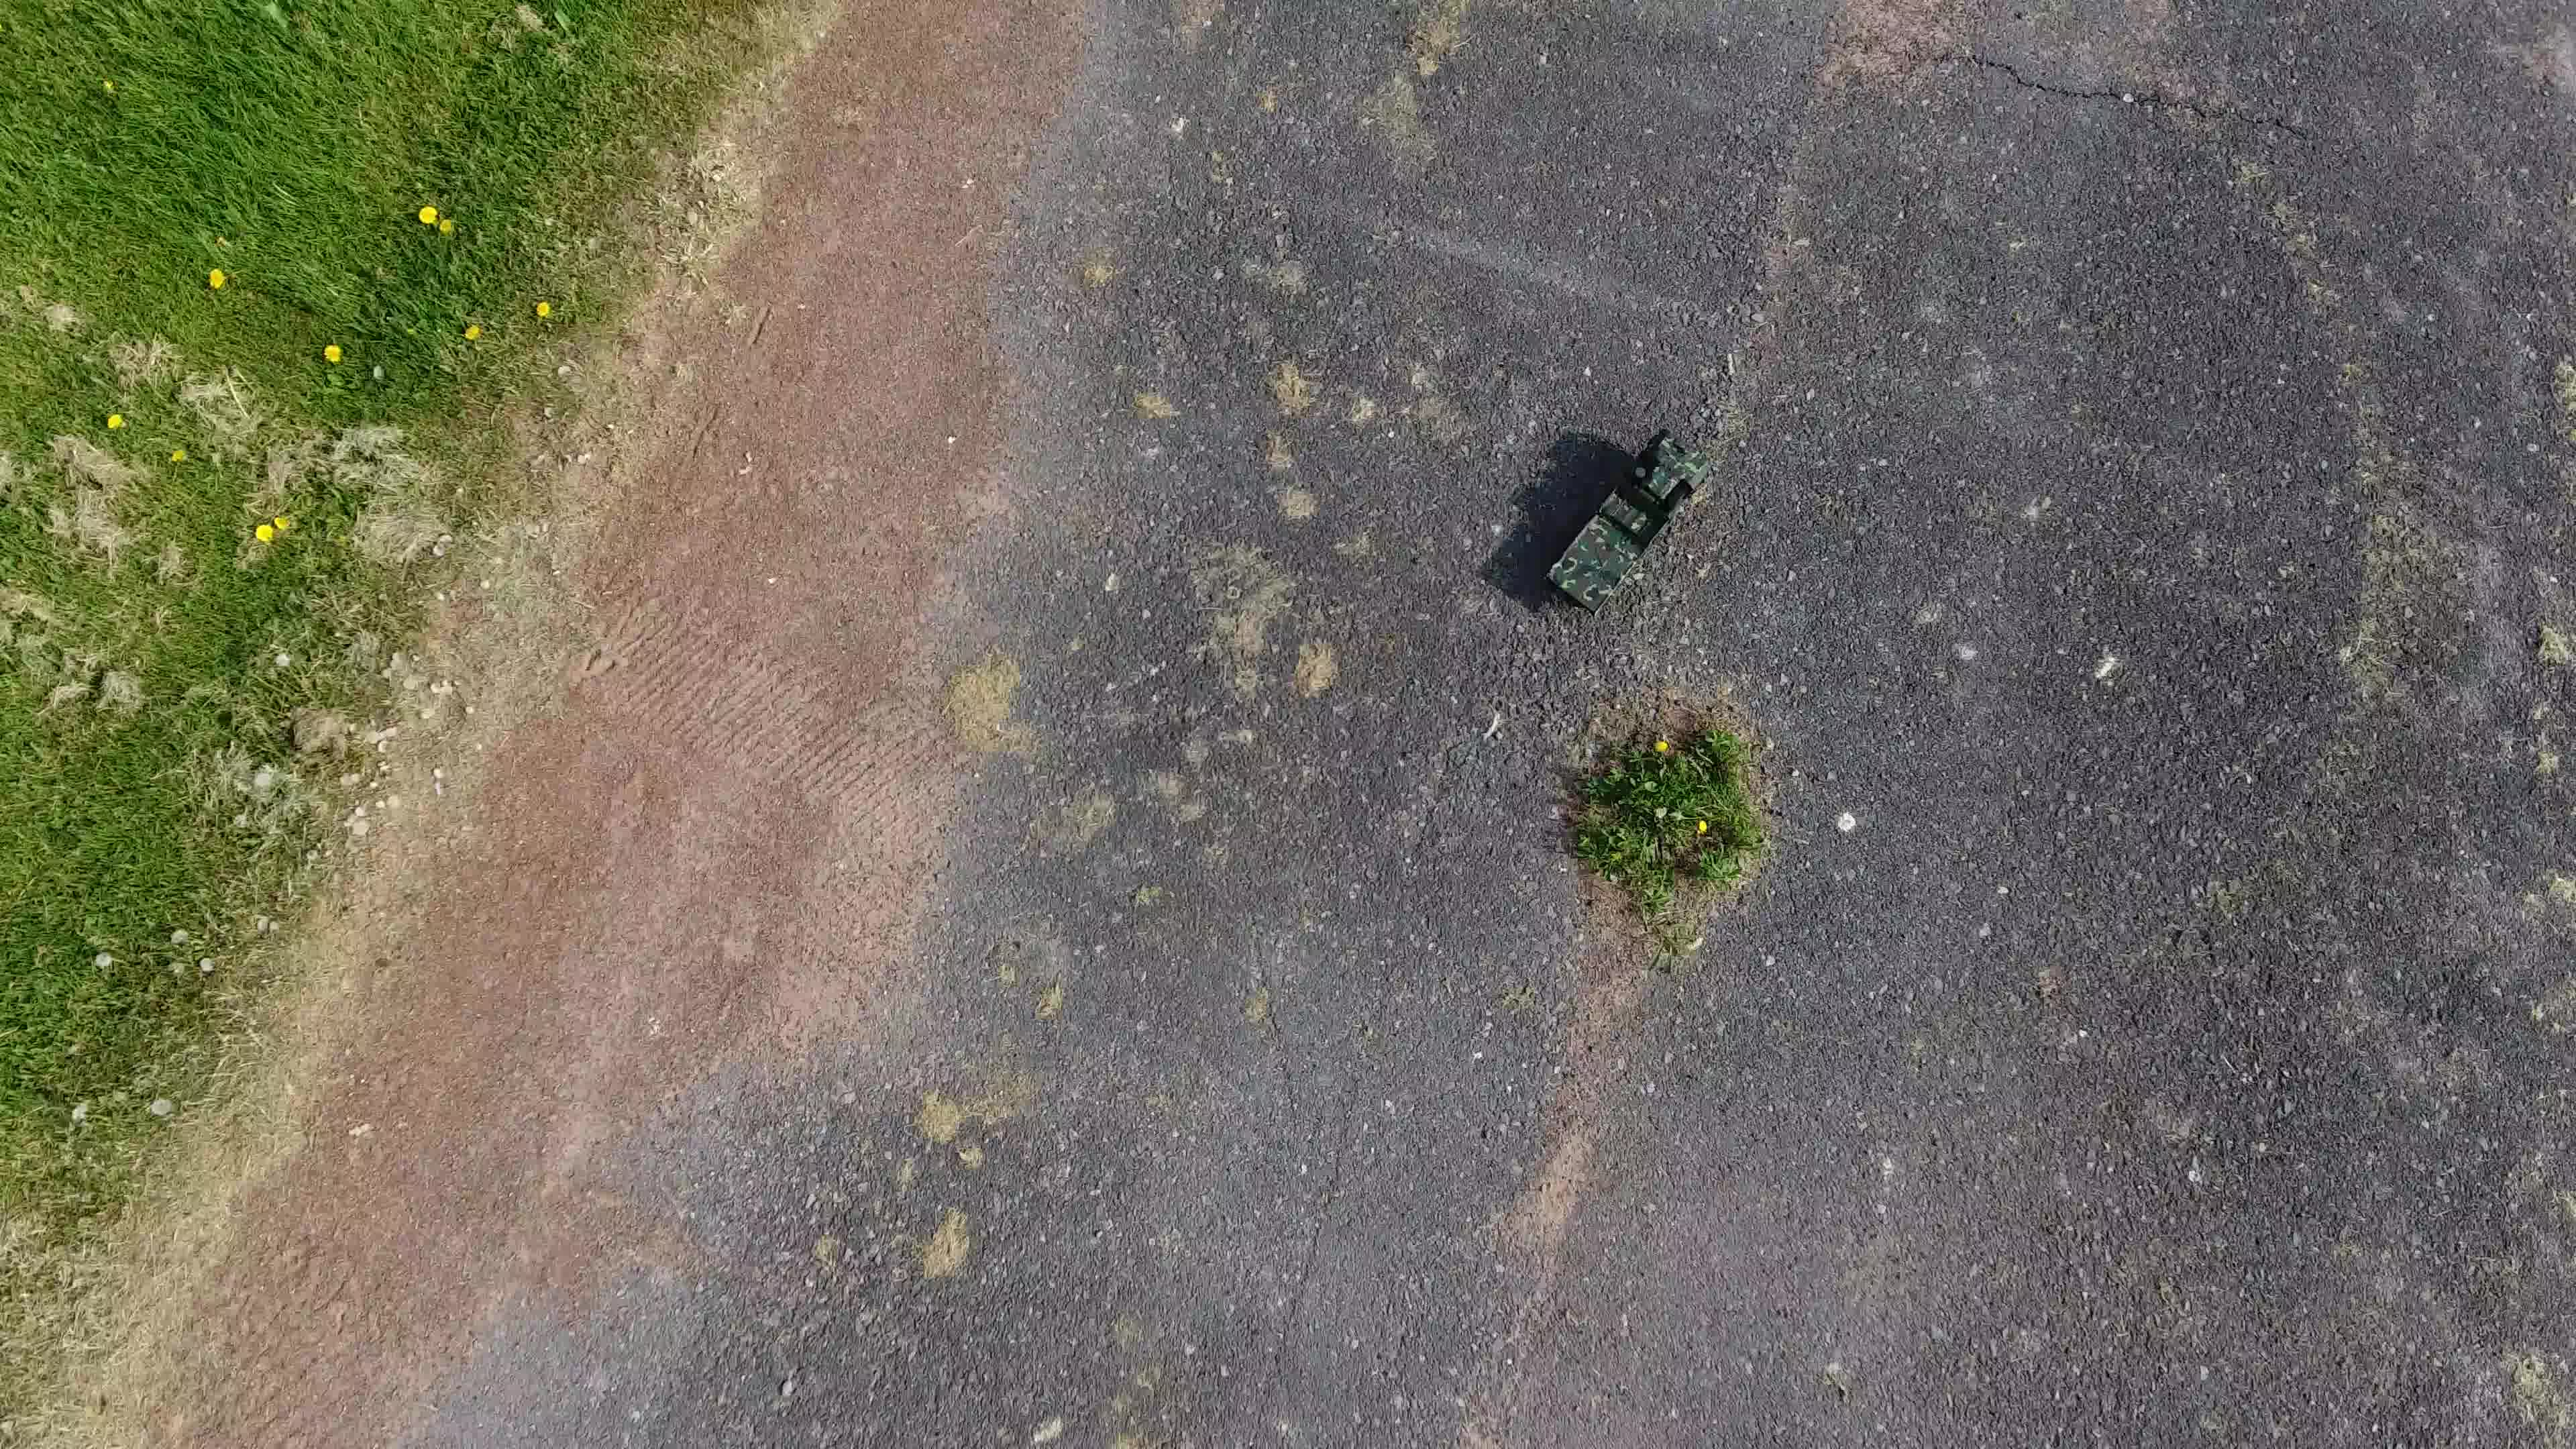transporter9_camo: (1534, 426, 1716, 621)
